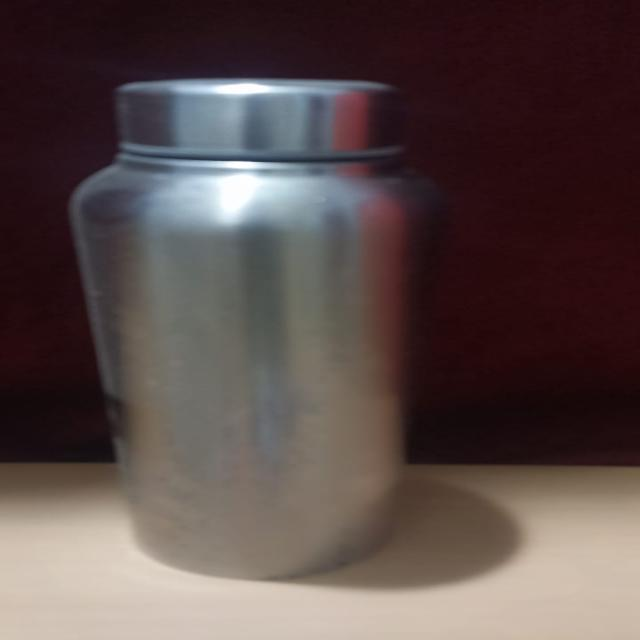bottle: (63, 63, 450, 583)
